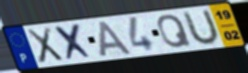4: (128, 16, 156, 55)
A: (98, 20, 134, 58)
Q: (156, 13, 194, 50)
U: (182, 8, 221, 48)
X: (52, 22, 96, 62), (24, 26, 66, 66)
